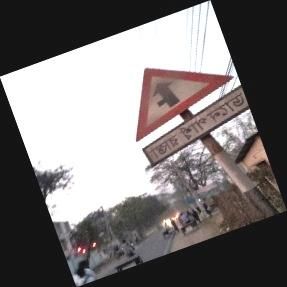Side-road-right: (136, 67, 257, 181)
